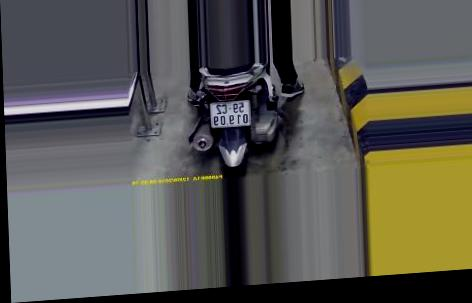License_Plate: (206, 96, 255, 131)
